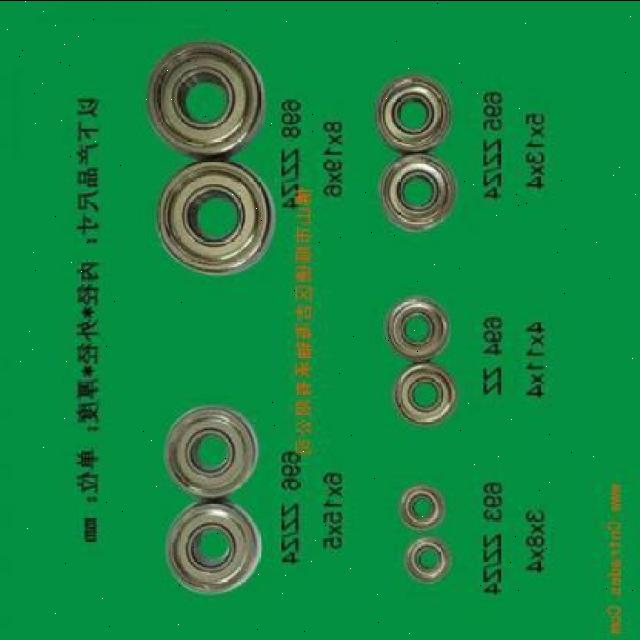Bearing: (145, 38, 263, 156), (156, 159, 274, 277), (168, 502, 262, 600), (161, 404, 257, 498), (380, 154, 458, 234), (376, 76, 452, 151), (394, 362, 456, 426), (383, 299, 449, 359), (403, 536, 452, 586), (396, 484, 446, 530)
